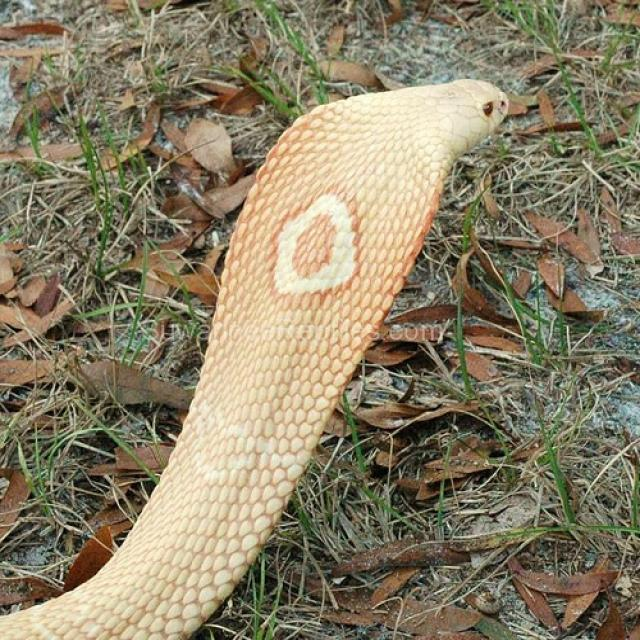Snake: (0, 75, 509, 638)
